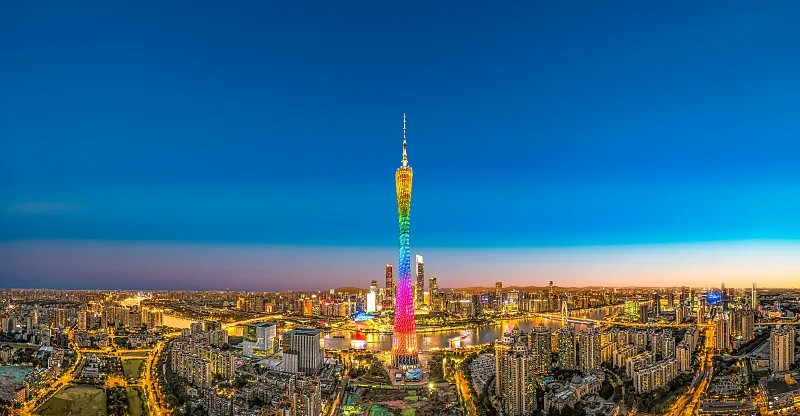Canton: (393, 112, 418, 354)
